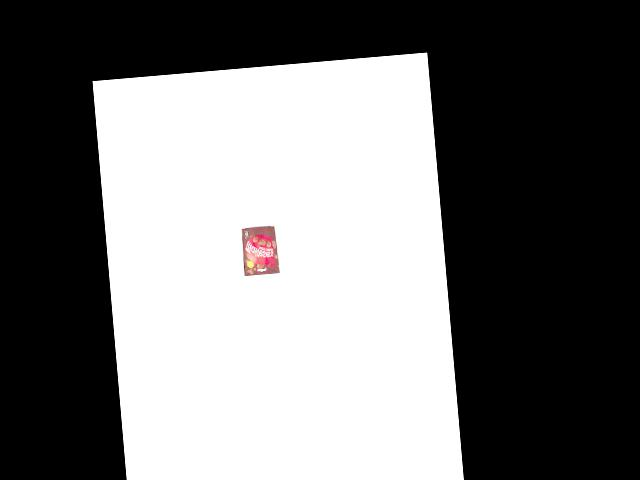chocolate: (240, 224, 280, 277)
